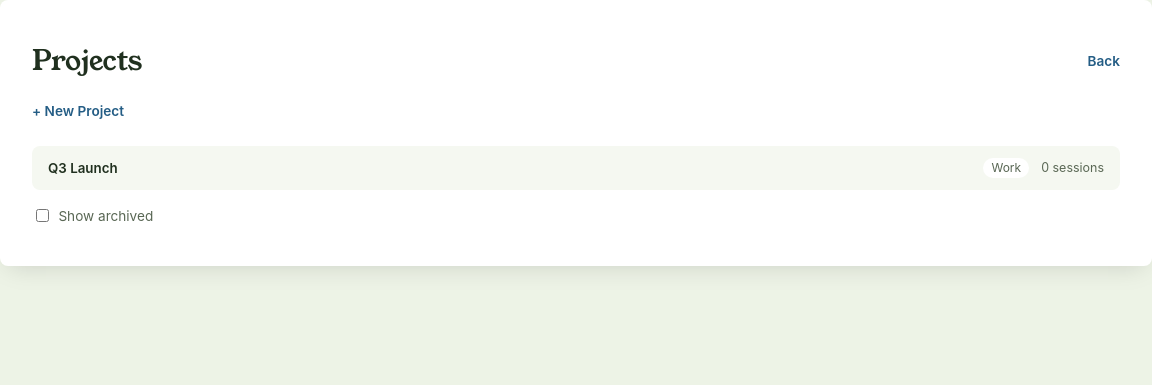
Test: Projects detail Board/Sessions tabs › switches to the Sessions tab, showing the existing session list
Click the text "Q3 Launch" at (83, 168), box 48,160 -> 118,176
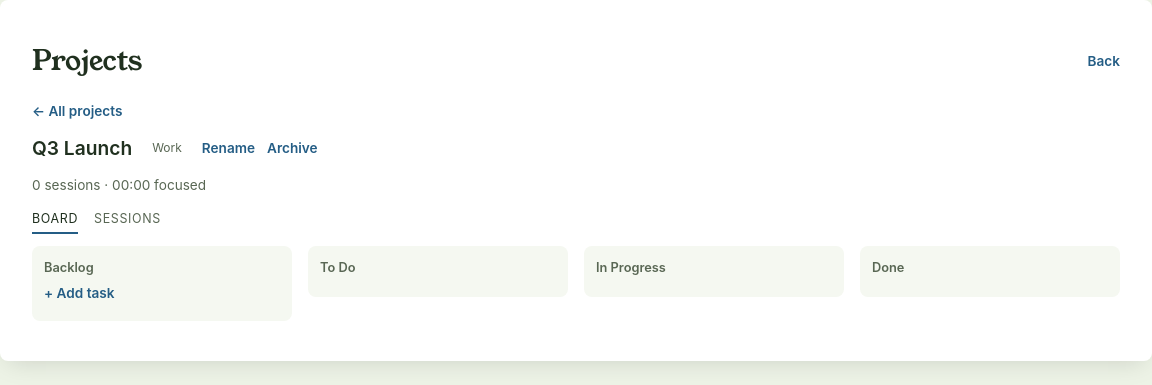
Click the tab "Sessions" at (127, 222), box 94,211 -> 161,234
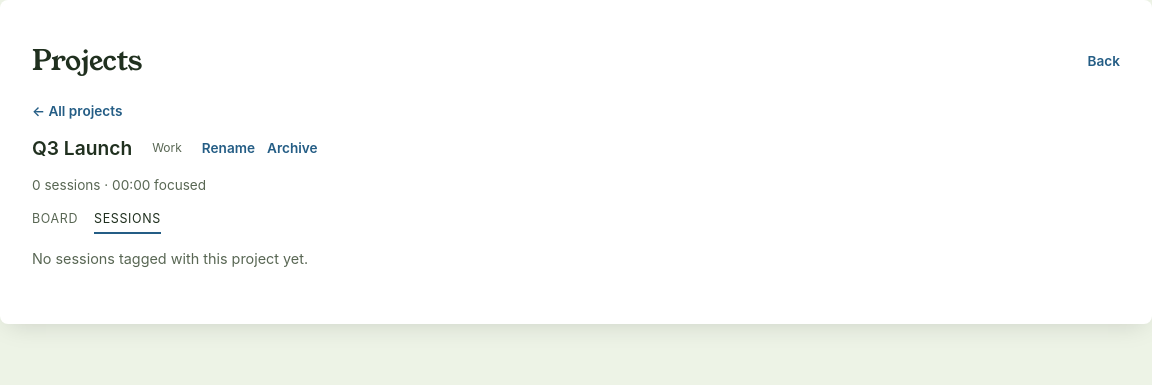
Expected: the text "No sessions tagged with this project yet." is shown, 32,250 -> 308,267
